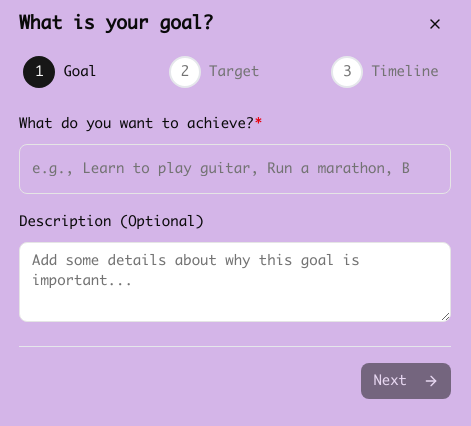
Scenario: InlineGoalCreation - Goal Validation › Form submission › preserves validation state through form steps
// Enter valid goal
Type "learn to play guitar" into the field with placeholder "Learn to play guitar" at (235, 169), box [19,144,451,194]
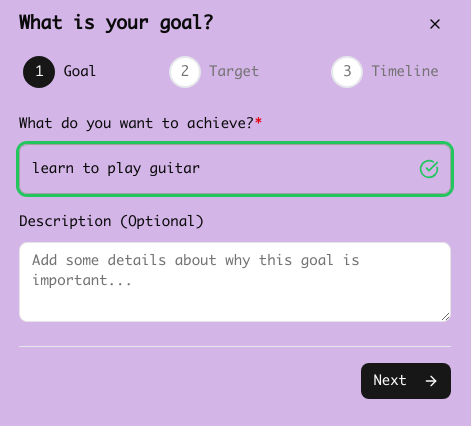
// Go to next step
Click the button "Next" at (406, 381), box [361,363,451,399]
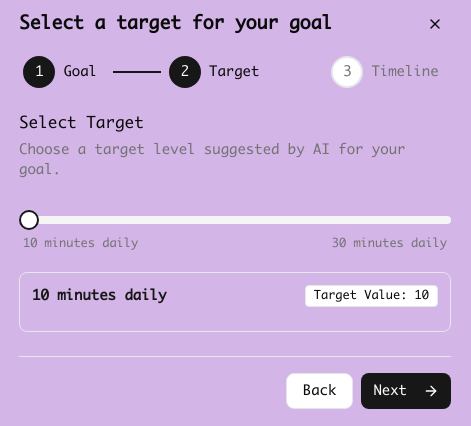
Result: the heading "Select a target for your goal" is shown at [19,10,332,38]
//  Go back
Click the button "Back" at (320, 391), box [286,373,353,409]
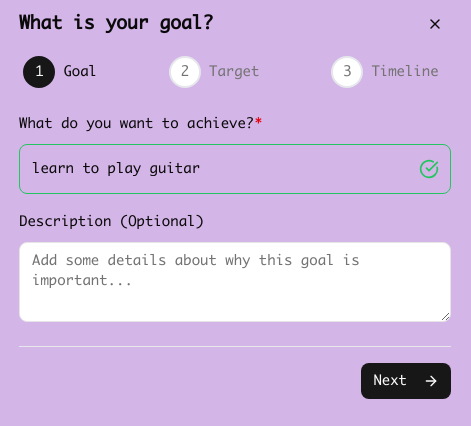
Result: the button "Next" is enabled at [361,363,451,399]
Result: the field with placeholder "Learn to play guitar" holds "learn to play guitar" at [19,144,451,194]
